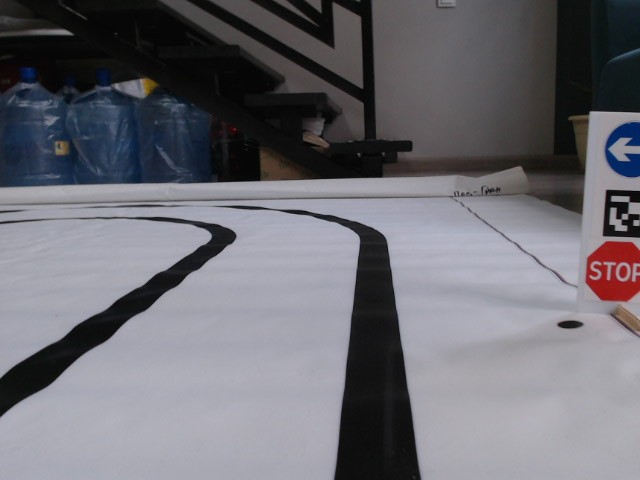Stop: (584, 239, 640, 303)
